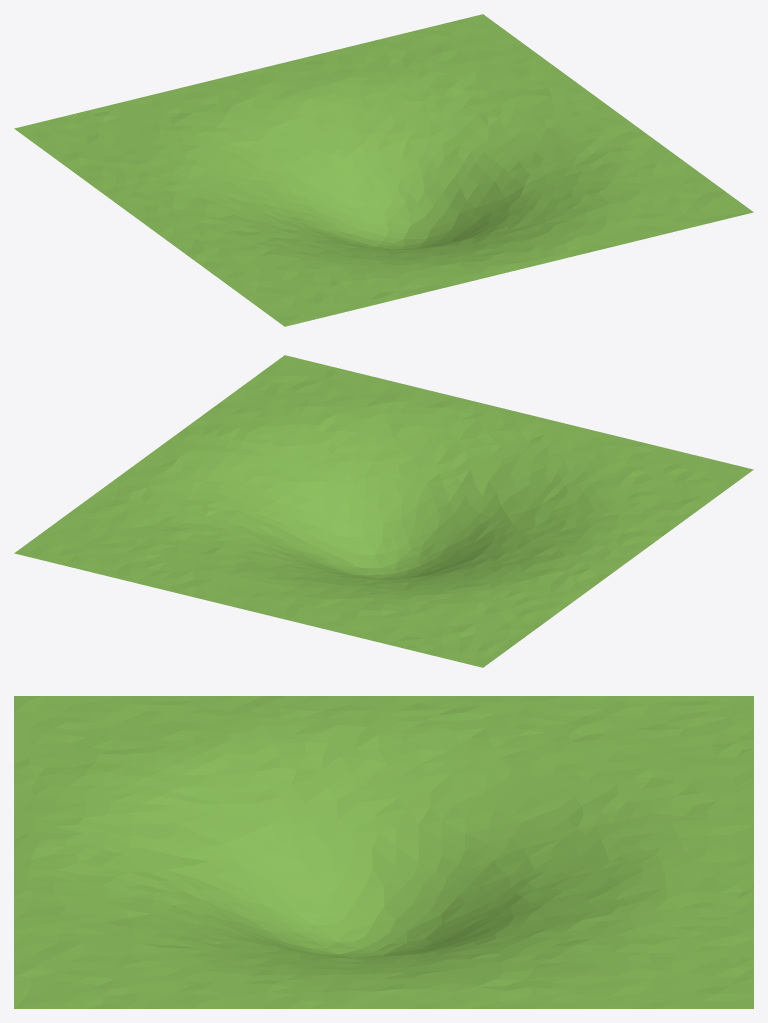
File: MT_Terrain_L_b_09.fbx
3 renders of one model, top to bottom at view 1: azimuth 30°, elevation 25°; view 2: azimuth 150°, elevation 25°; view 3: azimuth 270°, elevation 25°, orthographic. The views are drawn at different scales.
Visible parts, largest first — view 1: MT_Terrain_L_b_09; view 2: MT_Terrain_L_b_09; view 3: MT_Terrain_L_b_09.
Boxes of the visible parts, <box> form: MT_Terrain_L_b_09: <box>14,14,753,326</box>; MT_Terrain_L_b_09: <box>14,355,753,667</box>; MT_Terrain_L_b_09: <box>14,696,753,1008</box>.
Bounding box in the file's own units: 10000 × 1345 × 10000.
